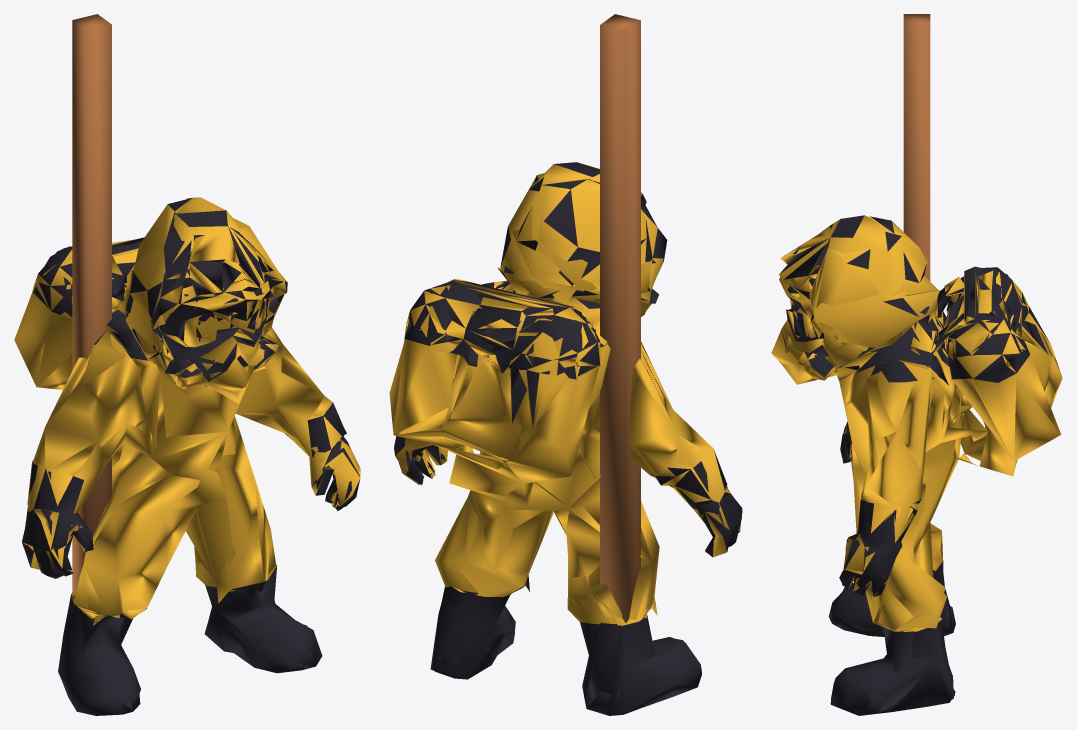
Rendered from prop.l10-hazmat-scarecrow.lod2.glb.
3 renders of one model, left to right at view 1: azimuth 30°, elevation 25°; view 2: azimuth 150°, elevation 25°; view 3: azimuth 270°, elevation 25°, orthographic. The views are drawn at different scales.
Bounding box in the file's own units: 1.3 × 2.5 × 1.08.
